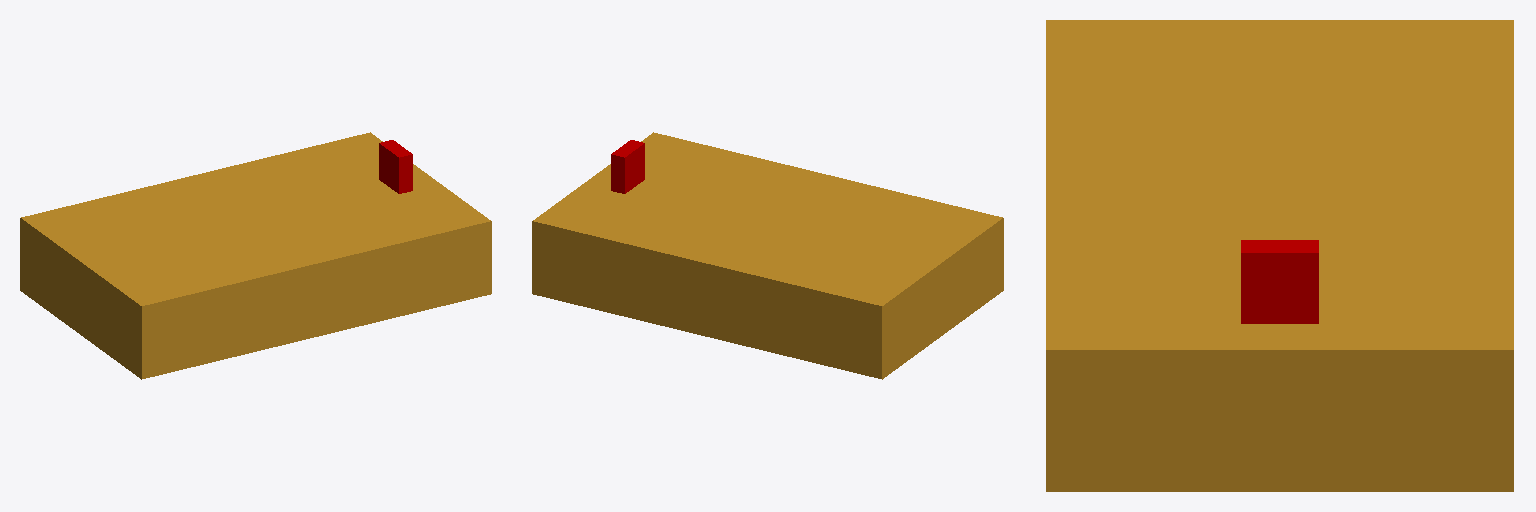
URDF robot description (demo03_joint):
<!-- 
  需求:要创建一个机器人模型,由底盘和摄像头组成,摄像头可以沿着自身z轴旋转
  实现:
    1.创建base_link作为底盘
    2.创建camera摄像头
    3.通过joint关联底盘和摄像头
-->
<robot name="demo03_joint">

  <material name="yellow">
    <color rgba="0.8 0.6 0.2 0.5"/>
  </material>
  <material name="red">
    <color rgba="0.8 0.0 0.0 0.5"/>
  </material>
 
  <link name="base_link">
    <visual>
      <geometry>
        <box size="0.5 0.3 0.1"/>
      </geometry>
      <material name="yellow"/>
    </visual>
  </link>

  <link name="camera">
    <visual>
      <geometry>
        <box size="0.02 0.05 0.05"/>
      </geometry>
      <material name="red"/>
    </visual>
  </link>

  <joint name="camera2base_link" type="continuous">
    <parent link="base_link"/>
    <child link="camera"/>
    <!-- 设置平移量和旋转度 -->
    <origin xyz="0.2 0 0.075" rpy="0 0 0"/>
    <!-- 设置自由度 -->
    <axis xyz="0 0 1"/>
  </joint>

</robot>

--- Render facts (derived) ---
3 views of the same robot in one strip: view 1: azimuth 30°, elevation 25°; view 2: azimuth 150°, elevation 25°; view 3: azimuth 270°, elevation 25° (orthographic).
Robot: demo03_joint — 2 links, 1 joints (1 continuous); root link base_link; default pose: all joints at 0.
Links seen in each view (by area): view 1: base_link, camera; view 2: base_link, camera; view 3: base_link, camera.
Boxes of the visible links, x1=… form: base_link: x1=20, y1=132, x2=491, y2=379; camera: x1=379, y1=140, x2=412, y2=193; base_link: x1=532, y1=132, x2=1003, y2=379; camera: x1=611, y1=140, x2=644, y2=193; base_link: x1=1046, y1=20, x2=1513, y2=491; camera: x1=1241, y1=240, x2=1318, y2=323.
Bounding box of the posed robot: 0.5 × 0.3 × 0.15 m (x, y, z).
Geometry: primitives only (box / cylinder / sphere), no mesh files.
